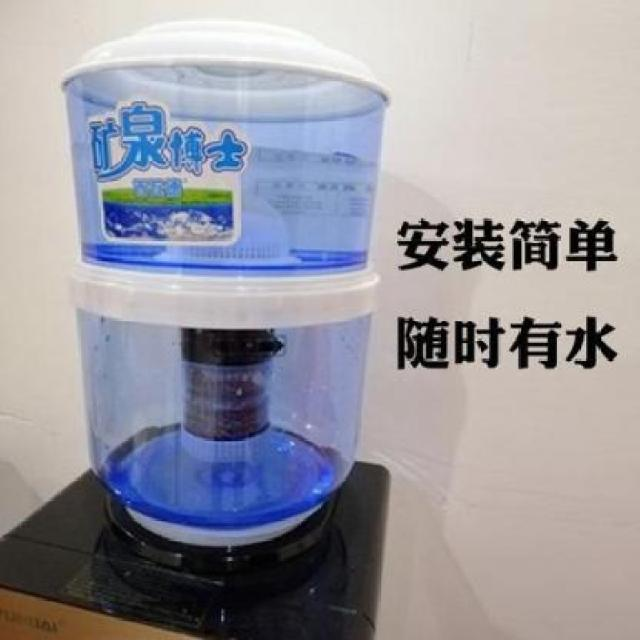coolerbottle: (52, 14, 398, 551)
